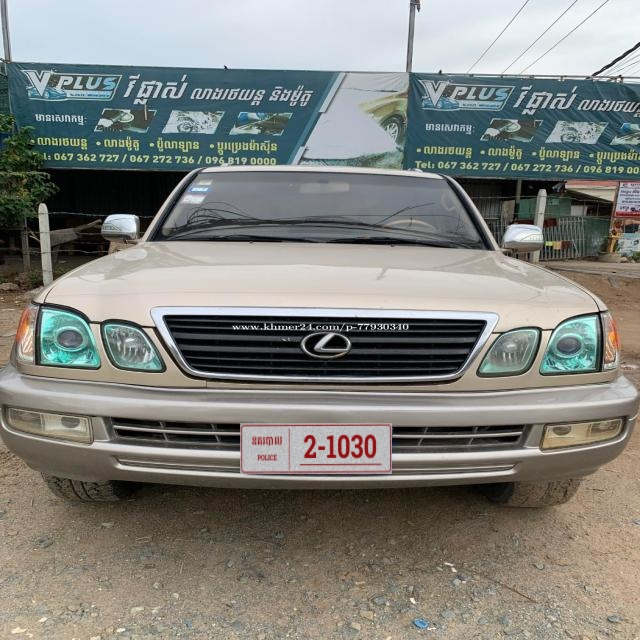Plate Number: (240, 424, 393, 474)
